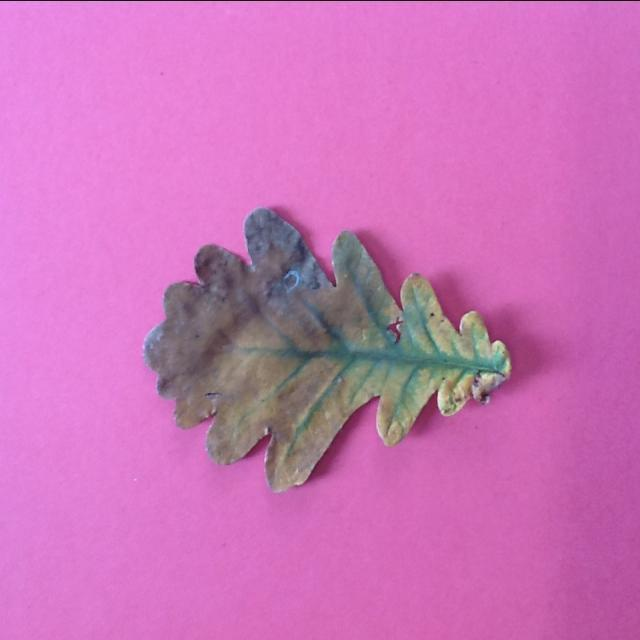foliage: (138, 201, 516, 498)
